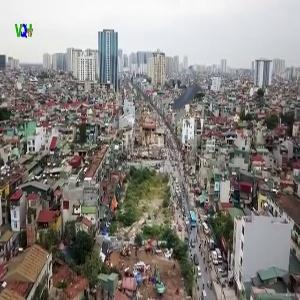drone: (140, 50, 232, 142)
